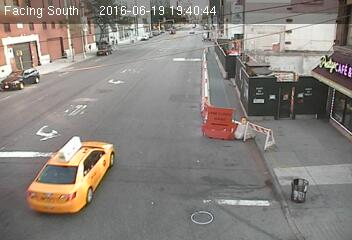neg: (98, 41, 111, 59), (144, 32, 151, 41), (134, 24, 139, 32)
